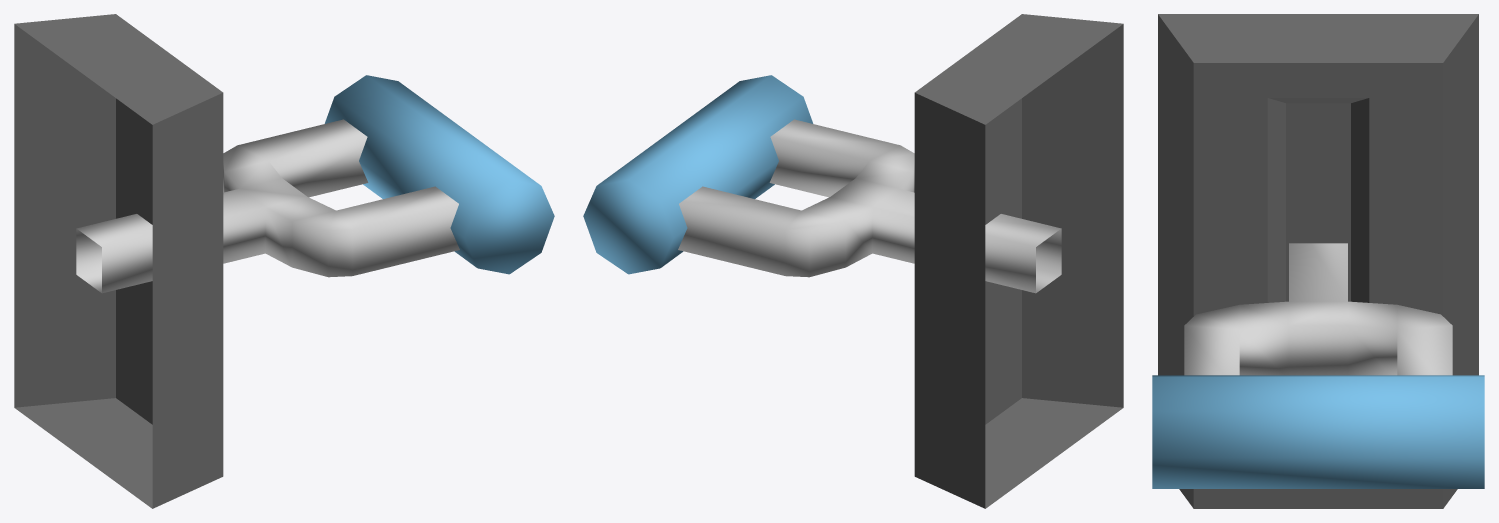
Rendered from wall lever.fbx.
3 views of the same model, side by side, from view 1: azimuth 30°, elevation 25°; view 2: azimuth 150°, elevation 25°; view 3: azimuth 270°, elevation 25° (orthographic). The views are drawn at different scales.
Parts seen in each view (by area): view 1: WallLever; view 2: WallLever; view 3: WallLever.
Boxes of the visible parts, bbox=[...] form: WallLever: bbox=[14, 14, 554, 508]; WallLever: bbox=[583, 14, 1123, 508]; WallLever: bbox=[1152, 14, 1484, 508].
Bounding box in the file's own units: 57.66 × 52.93 × 35.77.
